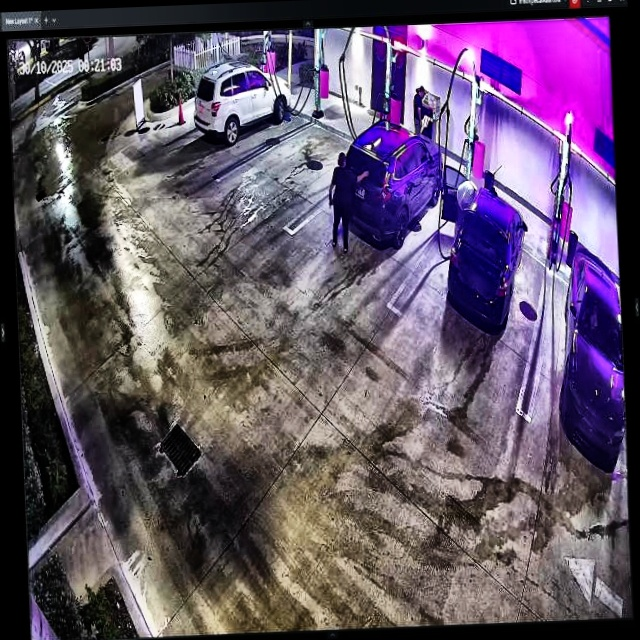Car: (338, 117, 445, 246), (444, 181, 527, 328), (194, 55, 293, 146)
